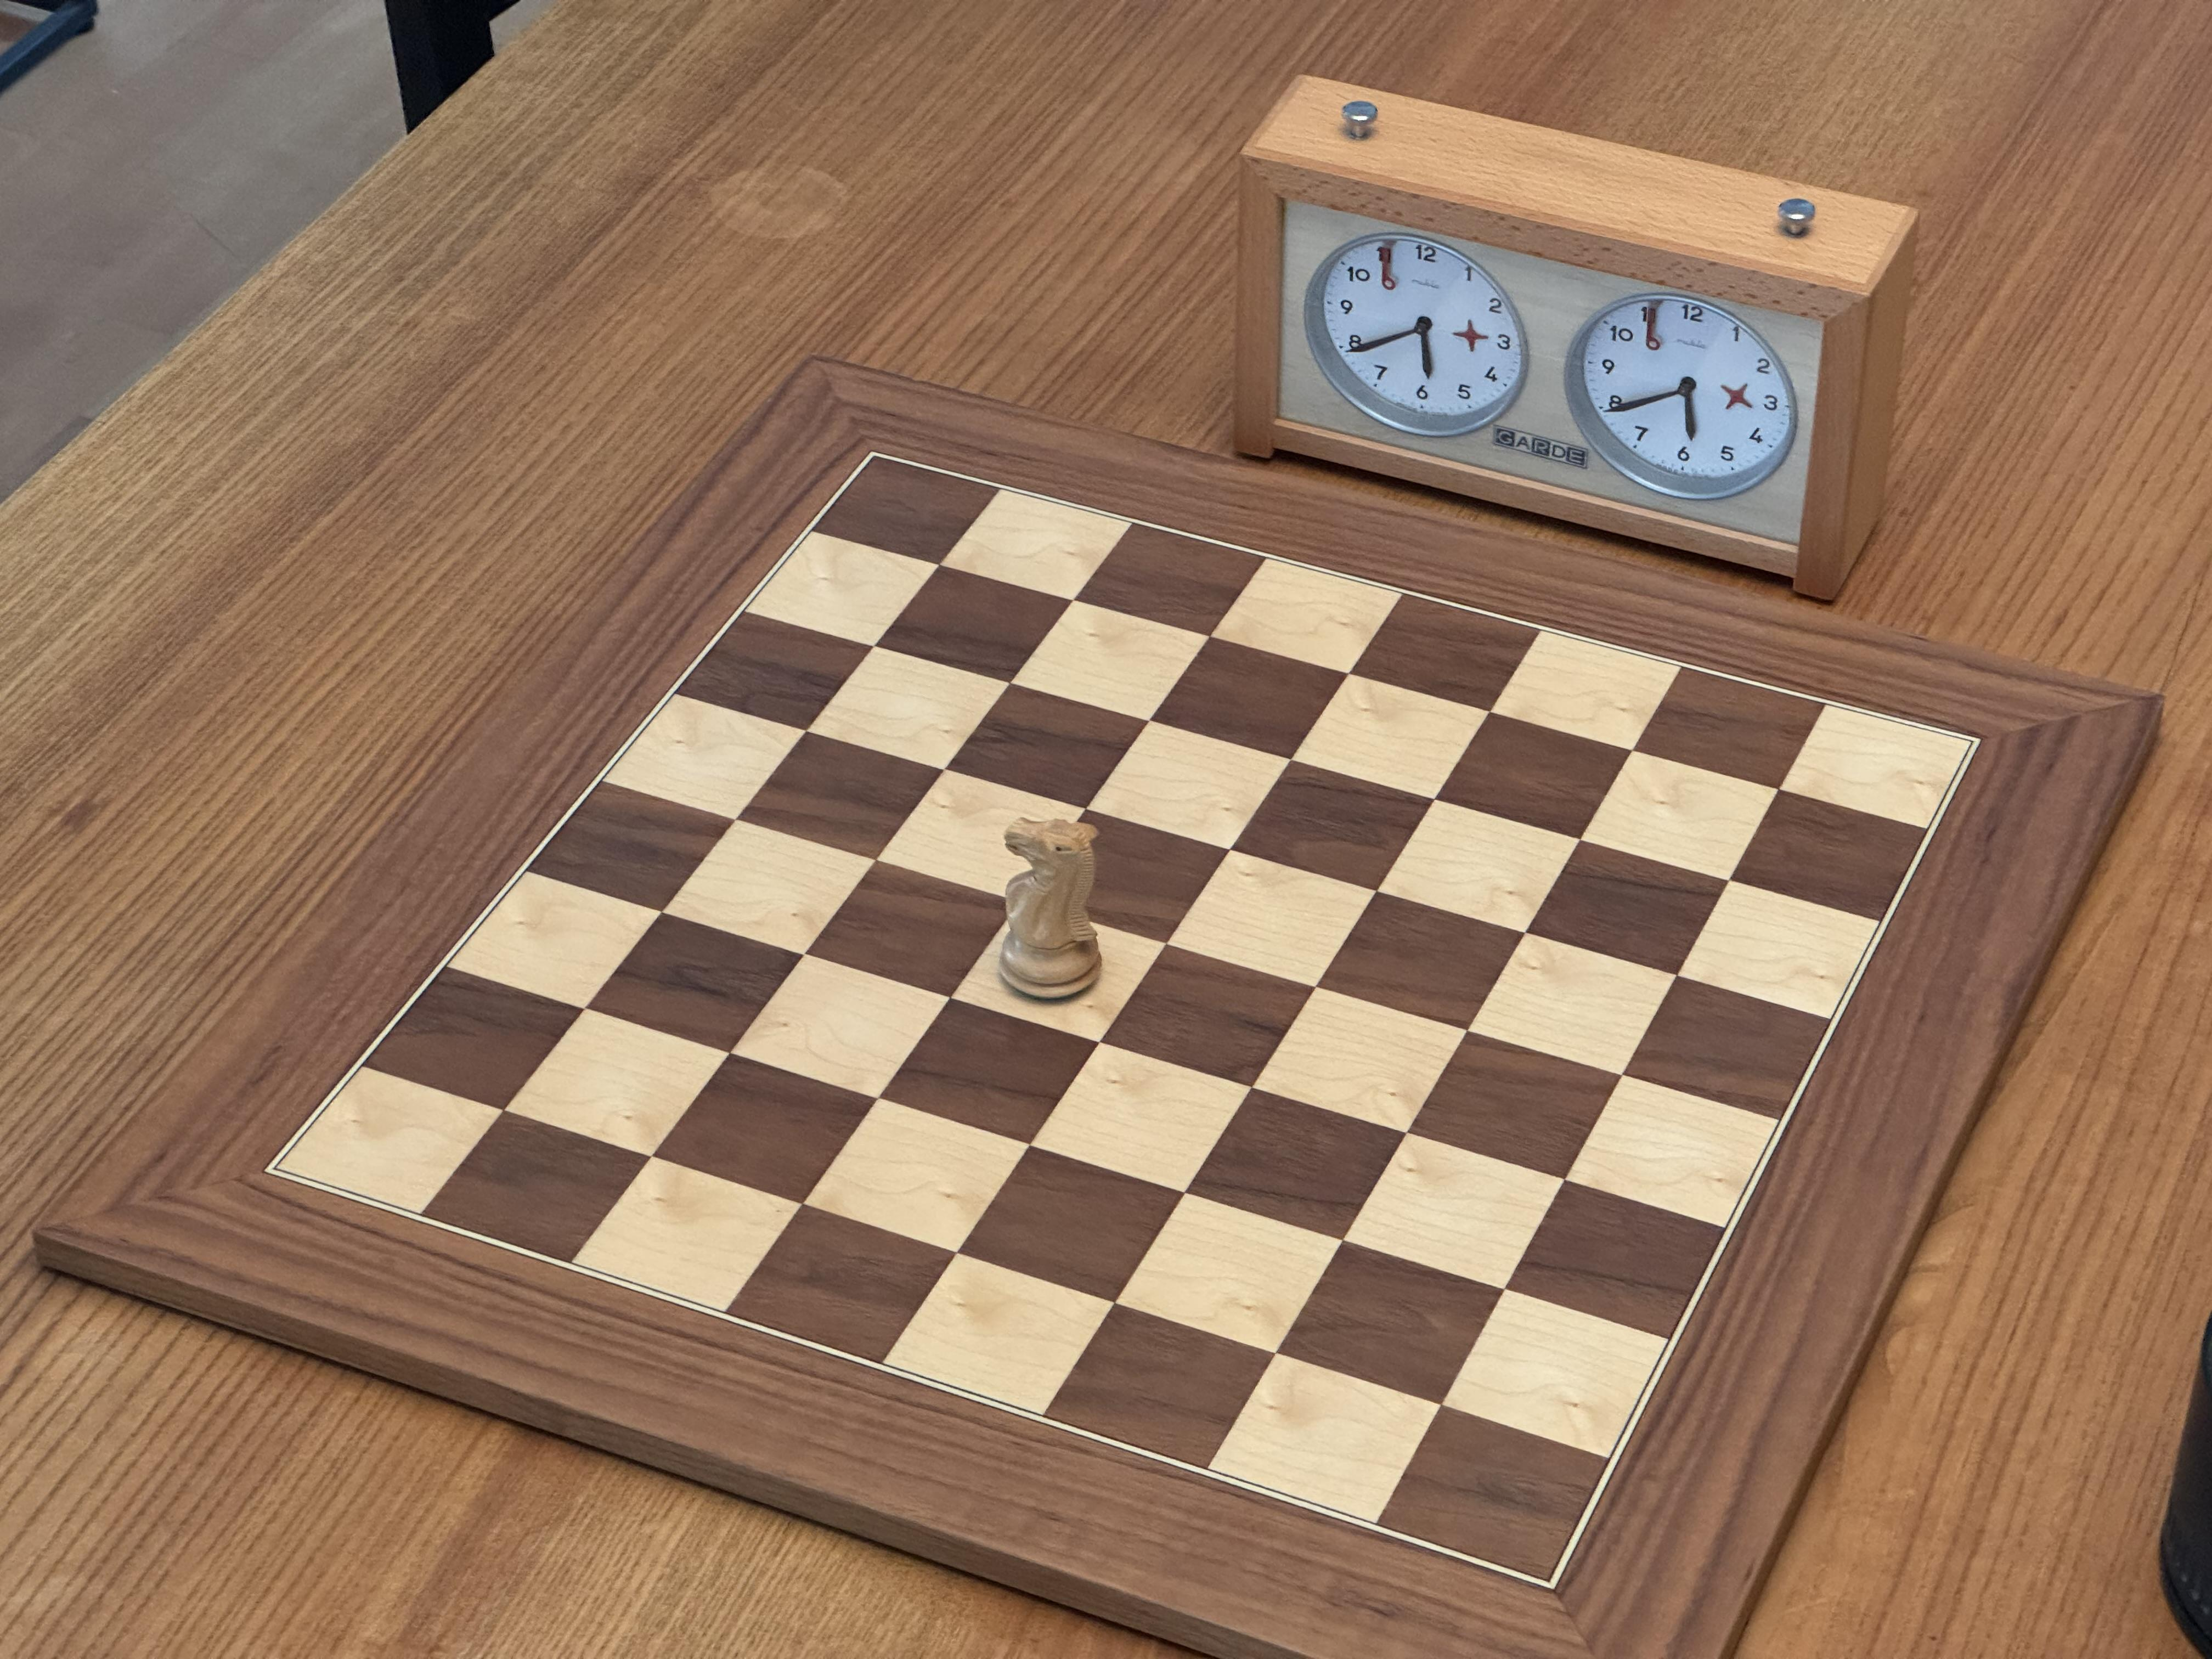White Knight: (995, 806, 1108, 1013)
